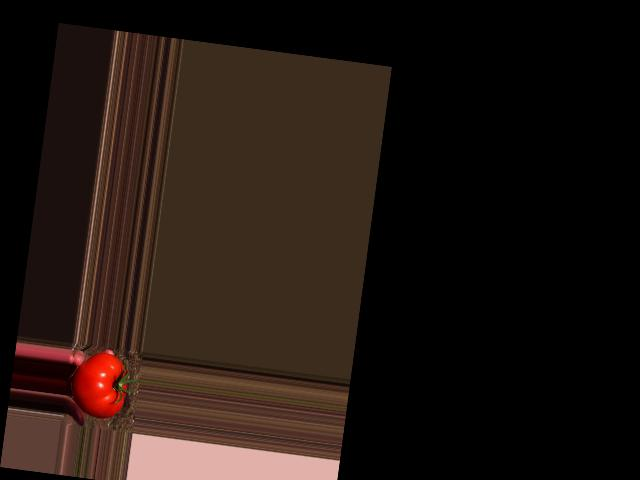tomato: (67, 348, 131, 421)
